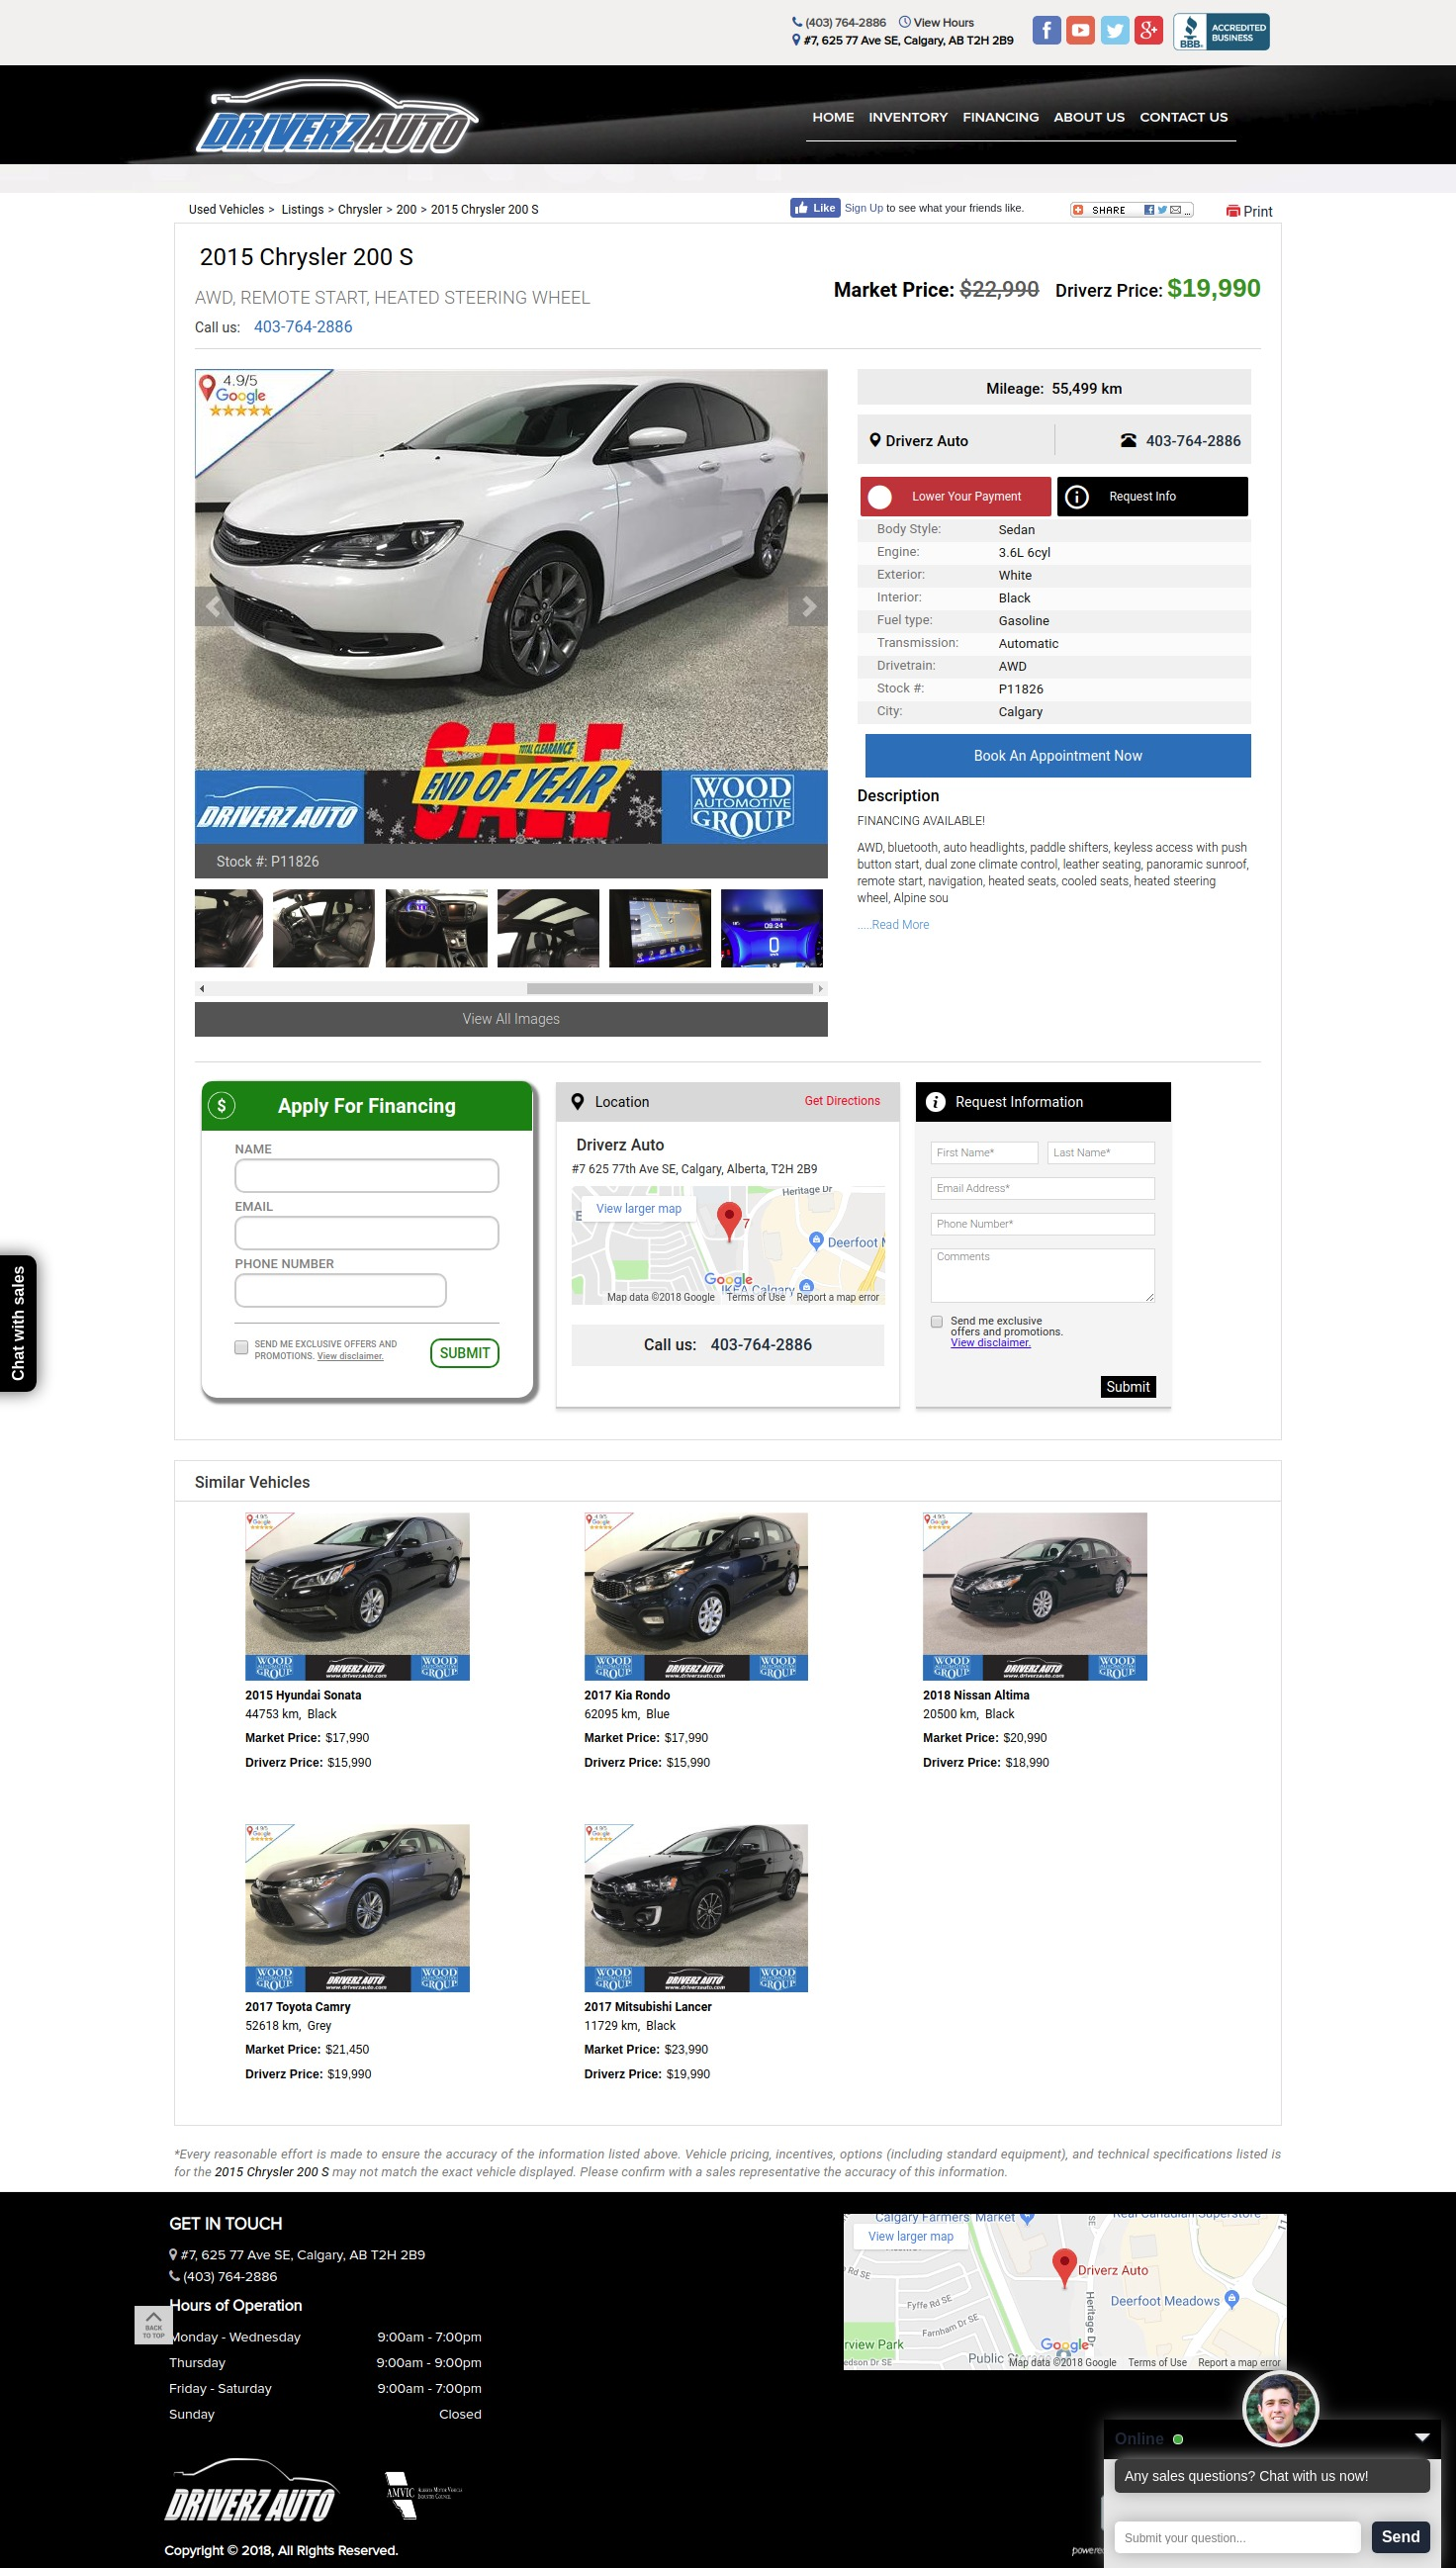car: (788, 587, 830, 628)
